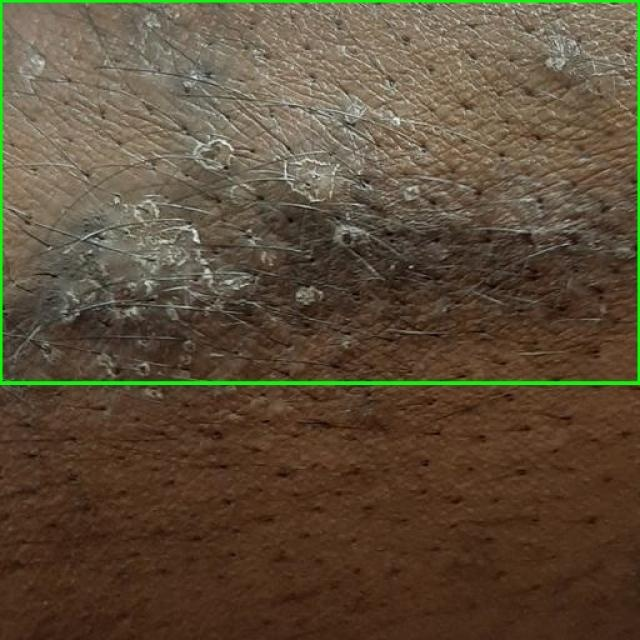Eczema: (0, 0, 639, 382)
